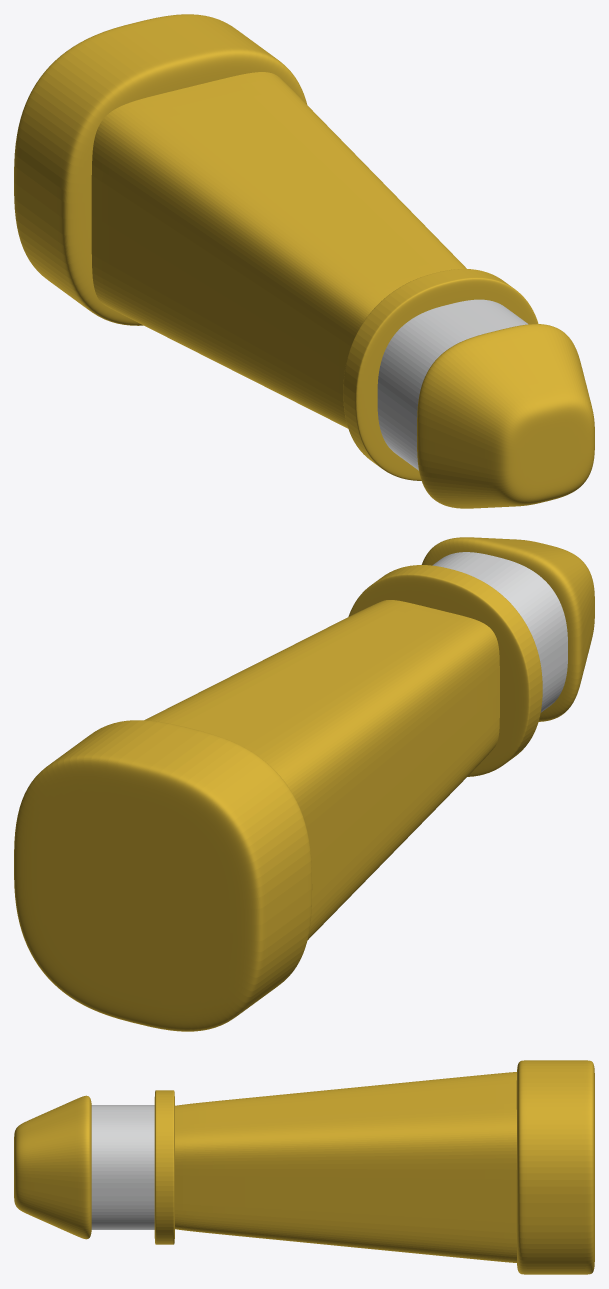
Rendered from lighthouse_sq.glb.
The picture shows the model from 3 angles, top to bottom: view 1: azimuth 30°, elevation 25°; view 2: azimuth 150°, elevation 25°; view 3: azimuth 270°, elevation 25°; orthographic projection. The views are drawn at different scales.
Visible parts, largest first — view 1: superquadric_1, superquadric_0, superquadric_3, superquadric_4, superquadric_2; view 2: superquadric_0, superquadric_1, superquadric_4, superquadric_3, superquadric_2; view 3: superquadric_1, superquadric_0, superquadric_3, superquadric_2, superquadric_4.
Boxes of the visible parts, <box> form: superquadric_1: <box>91,72,466,428</box>; superquadric_0: <box>14,14,307,325</box>; superquadric_3: <box>417,324,594,508</box>; superquadric_4: <box>343,269,538,480</box>; superquadric_2: <box>377,299,528,470</box>; superquadric_0: <box>14,720,312,1031</box>; superquadric_1: <box>144,600,499,939</box>; superquadric_4: <box>348,565,542,776</box>; superquadric_3: <box>421,537,594,721</box>; superquadric_2: <box>432,552,567,712</box>; superquadric_1: <box>175,1072,516,1262</box>; superquadric_0: <box>516,1060,594,1274</box>; superquadric_3: <box>14,1095,91,1239</box>; superquadric_2: <box>91,1105,154,1229</box>; superquadric_4: <box>154,1090,174,1244</box>.
Size of the model in its own units: 0.3461 by 0.3461 by 1.
